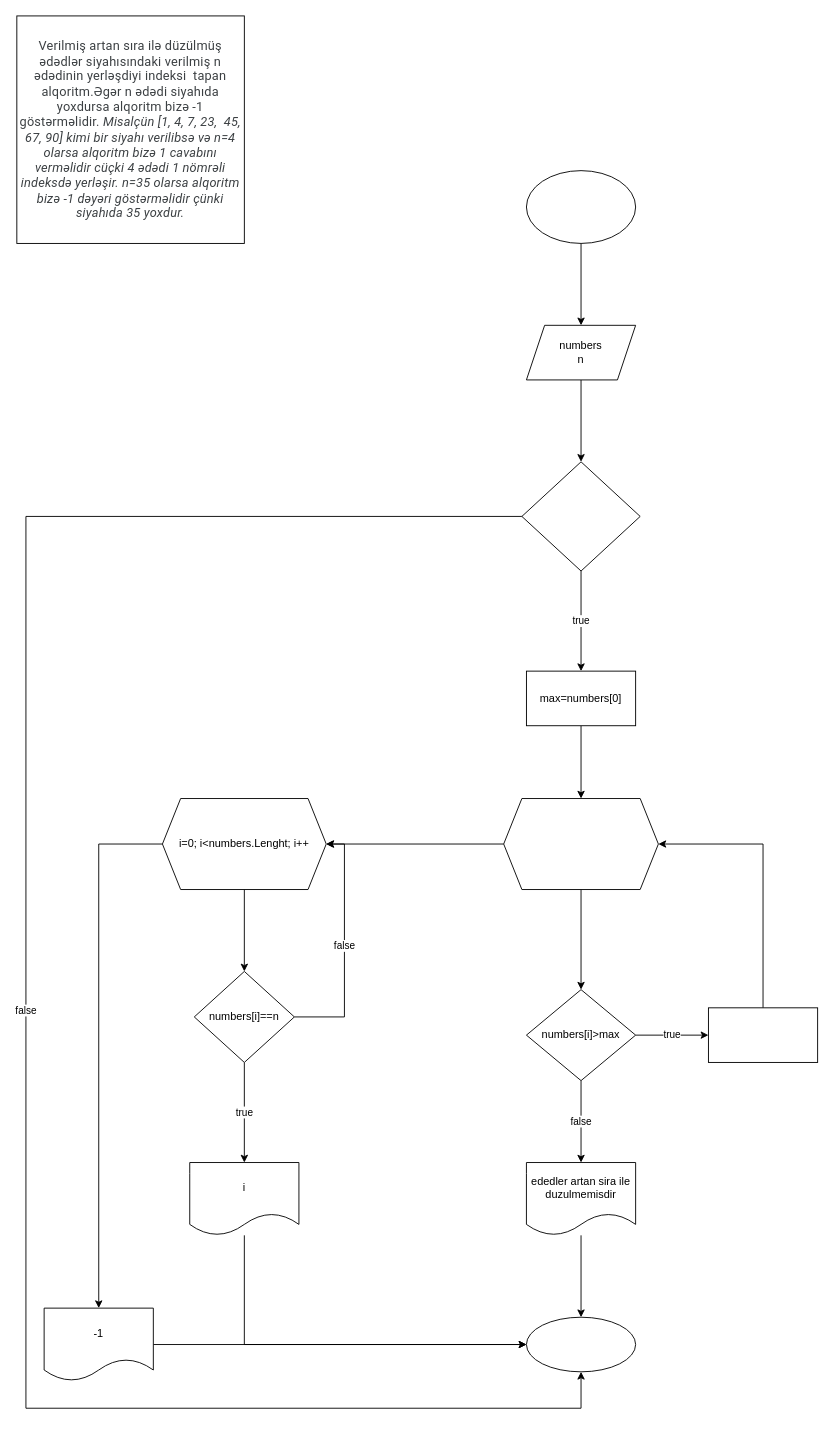
This 834x1431 diagram has some shape labels left out. Each missing label, with the box of its shape:
end: (526, 1316, 636, 1372)
i=1; i<numbers.Lenght; i++: (503, 798, 658, 890)
max=numbers[i]: (708, 1007, 818, 1062)
numbers.Lenght>0: (521, 461, 640, 571)
start: (526, 170, 636, 243)
